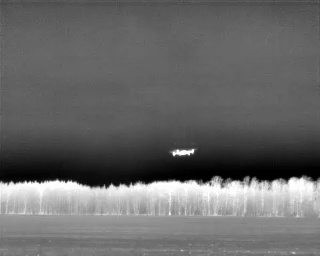DRONE: (165, 142, 200, 162)
